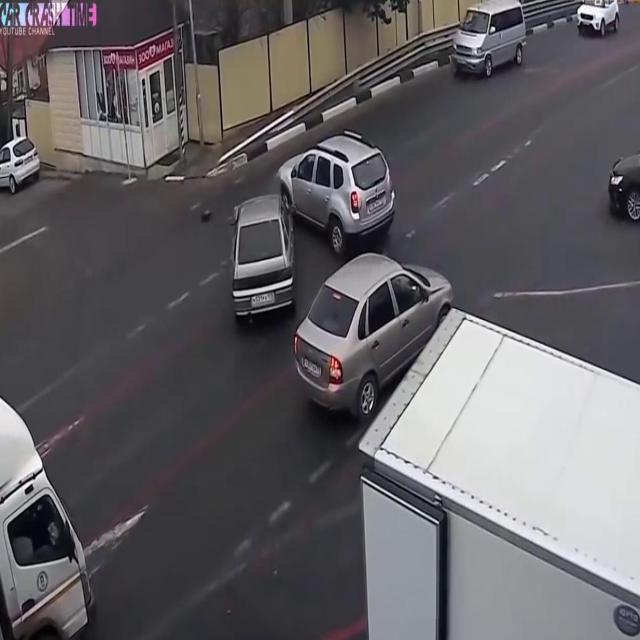accident: (196, 121, 398, 343)
non_accident: (288, 232, 640, 640)
